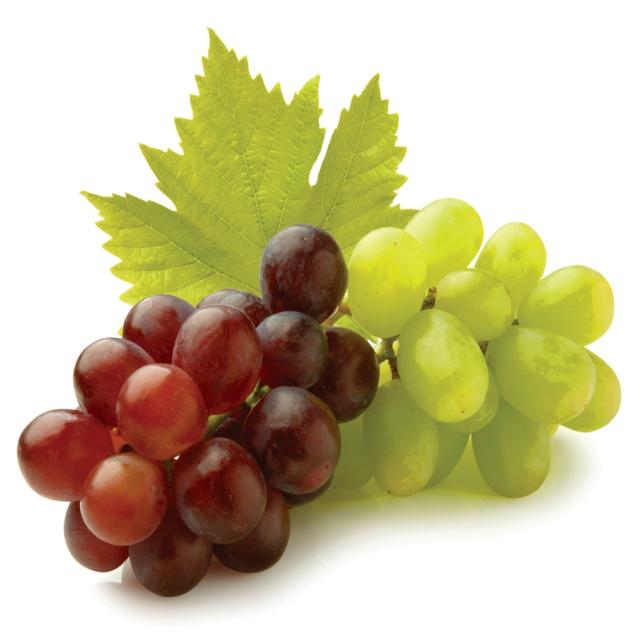grape: (17, 198, 620, 595)
